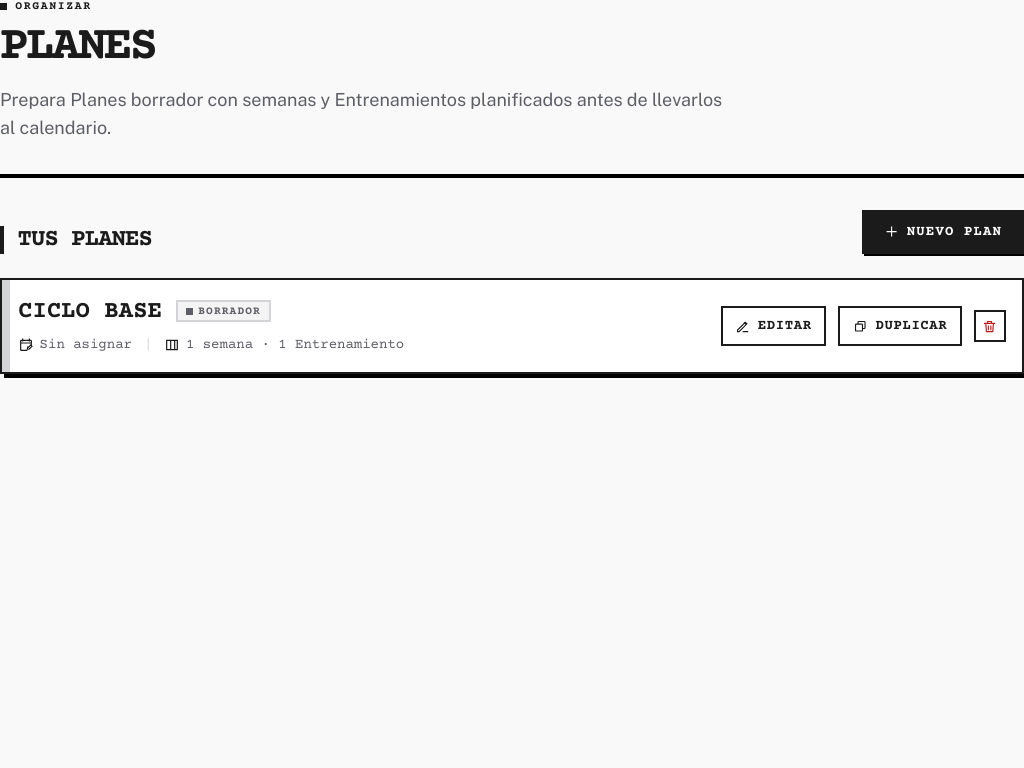
Test: listado de Planes › eliminar un borrador exige confirmación accesible y no se confirma por accidente
The image size is (1024, 768).
Click the button named "Eliminar Ciclo base" at (990, 326), box [974, 310, 1006, 342]
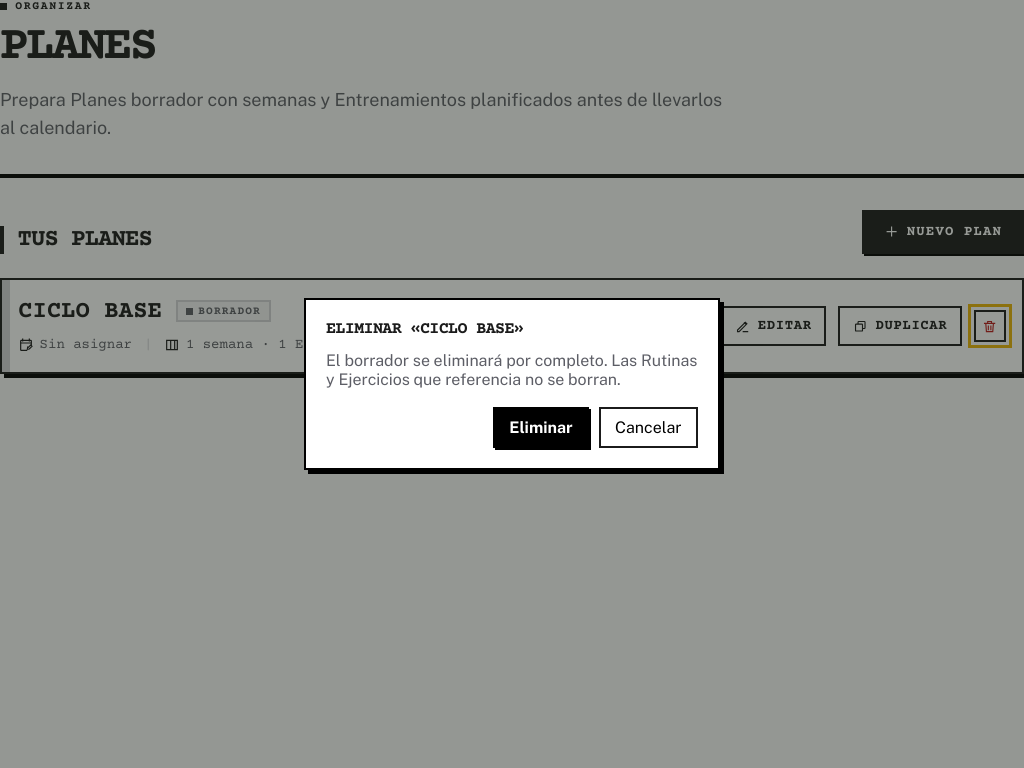
Note: cancelar conserva el Plan
Click the button "Cancelar" at (648, 428), box [599, 407, 698, 448]
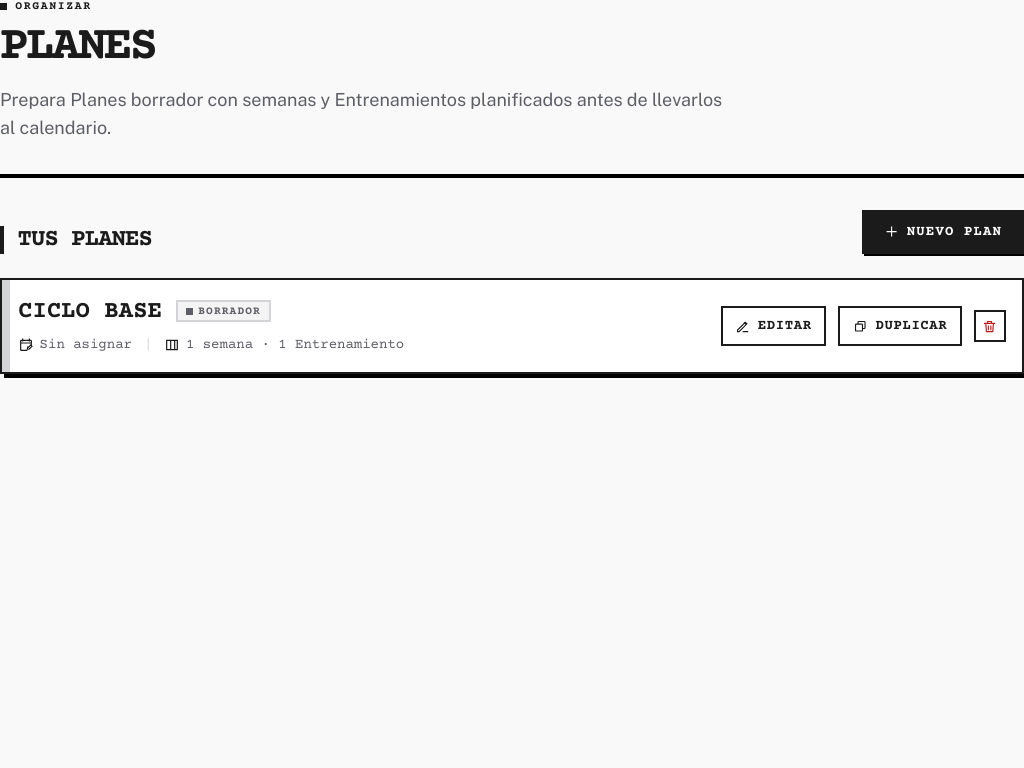
Result: the dialog is gone
Note: confirmar lo elimina
Click the button named "Eliminar Ciclo base" at (990, 326), box [974, 310, 1006, 342]
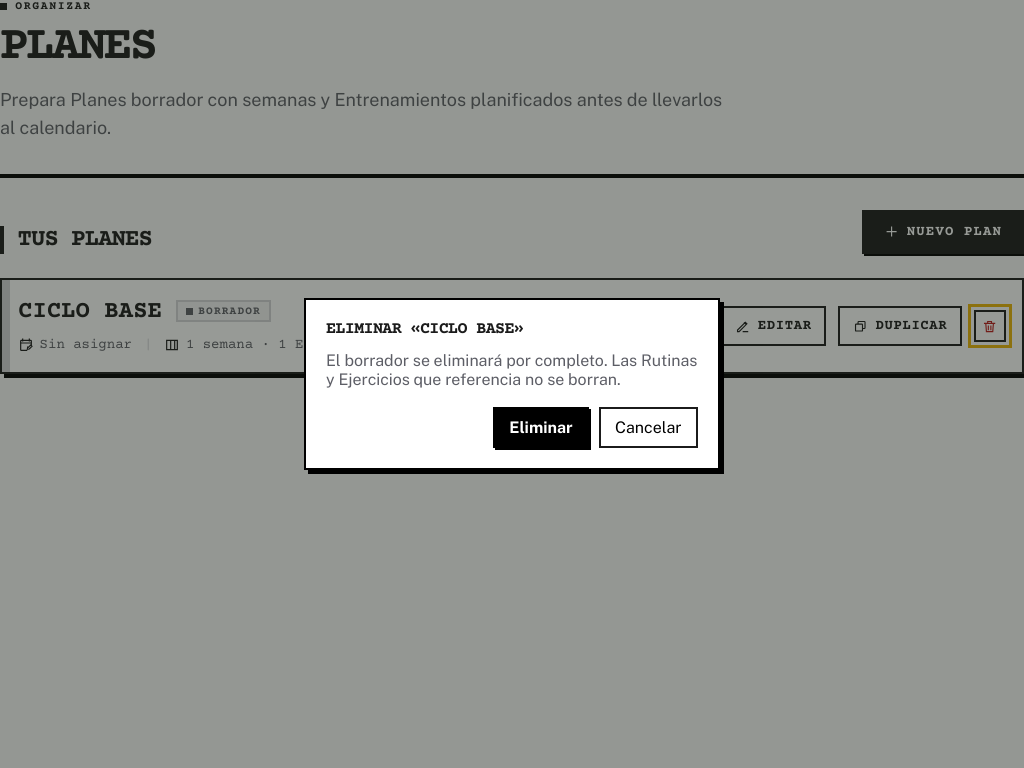
Click the button "Eliminar" at (541, 428), box [493, 407, 589, 448]
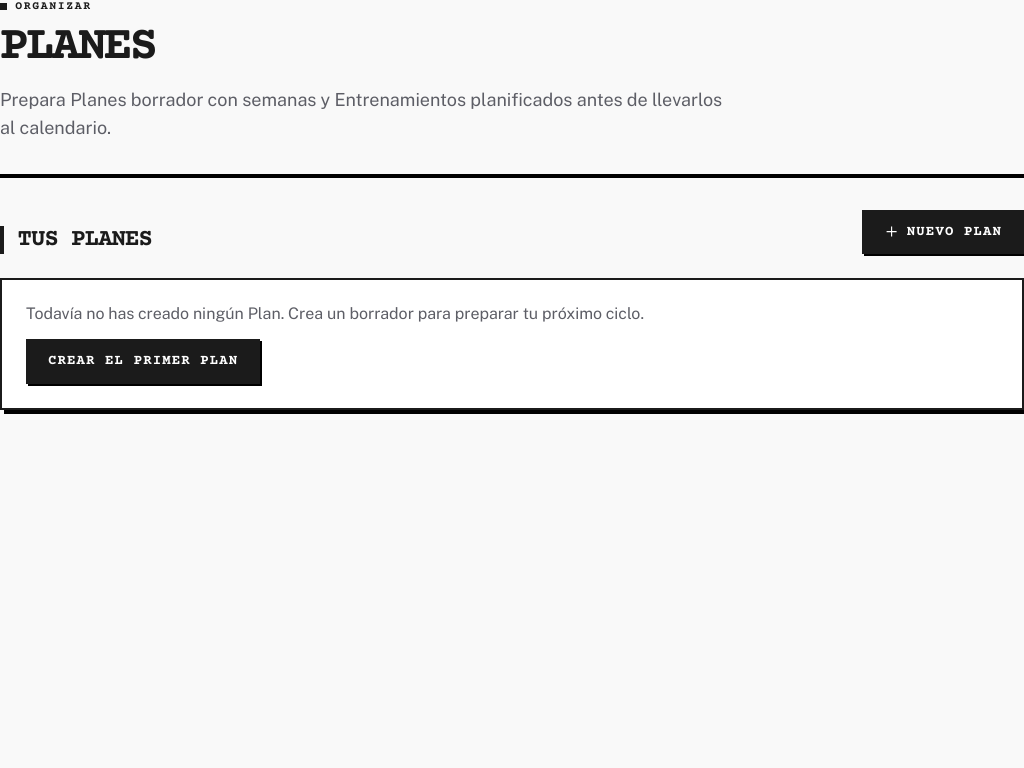
Result: the text "Todavía no has creado ningún Plan" is shown at [26, 304, 644, 323]
